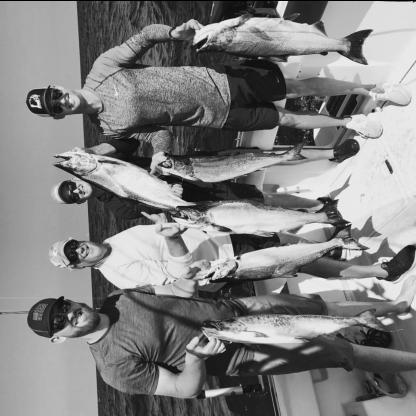fish: (193, 10, 373, 64), (202, 224, 366, 282), (52, 150, 201, 212), (200, 307, 396, 345), (172, 200, 352, 236), (156, 140, 308, 182)
